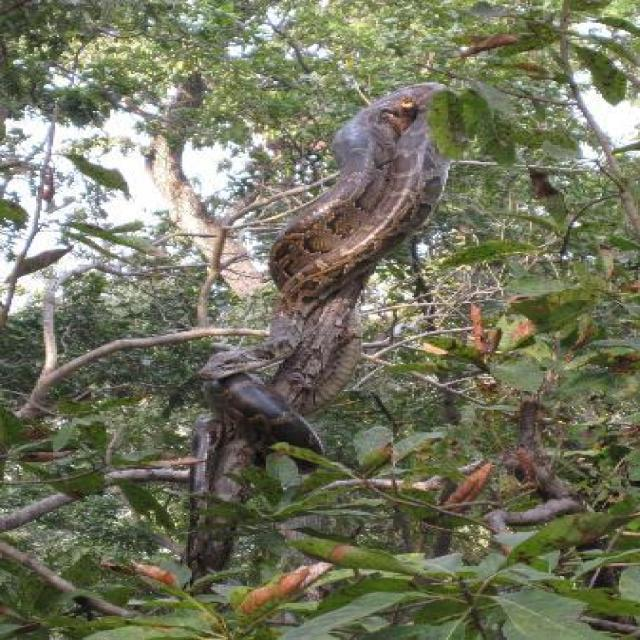Snake: (196, 80, 452, 476)
